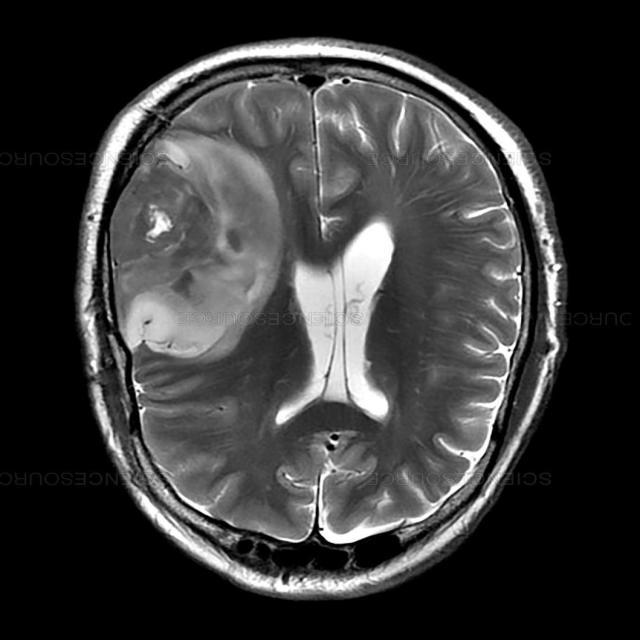Tumor: (104, 133, 280, 384), (272, 217, 398, 431)
